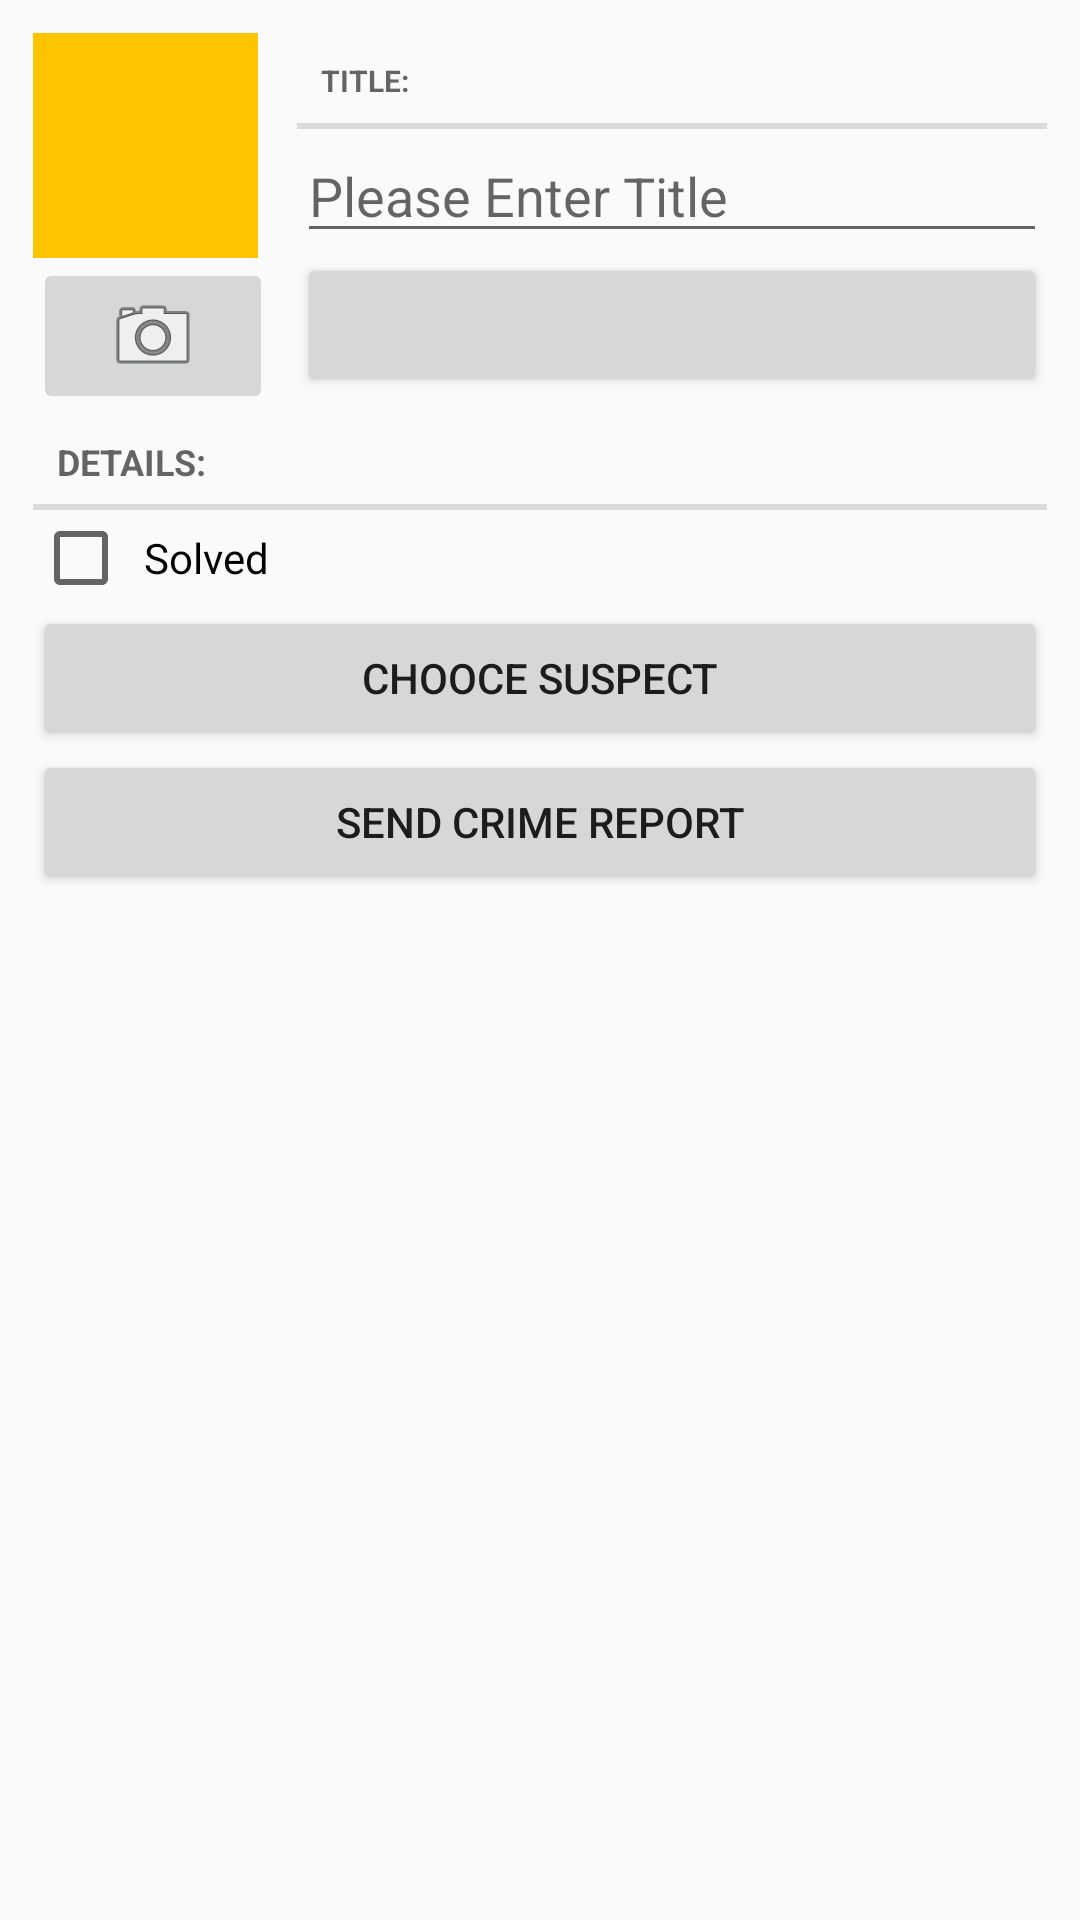

Screen size 1080px x 1920px. Icon name, then its box in pixels as (x1, y1, x2, y2):
camera: (45, 276, 261, 396)
